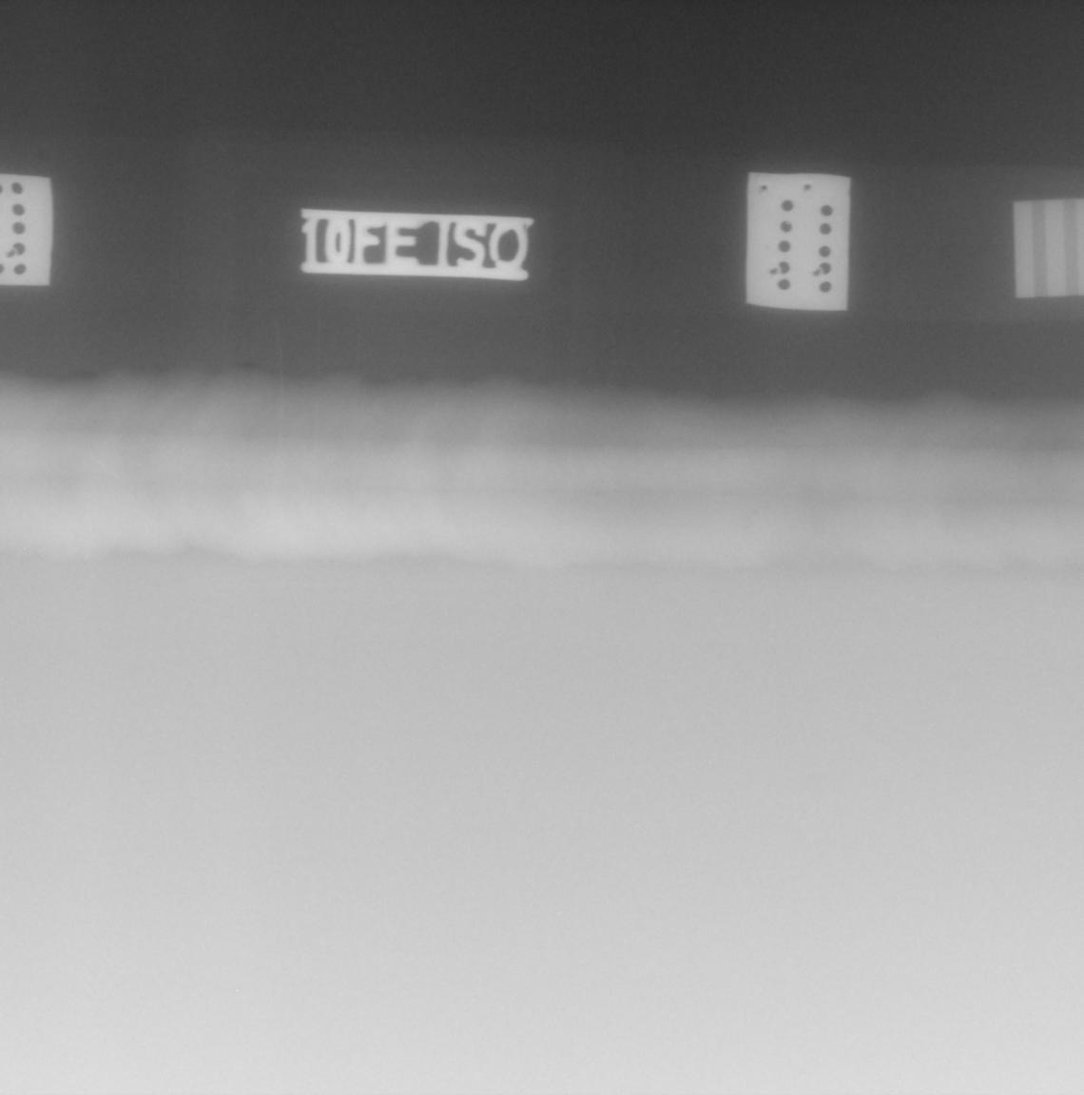Pore/Porosity: (748, 507, 759, 517), (743, 522, 753, 529), (594, 492, 599, 496)
